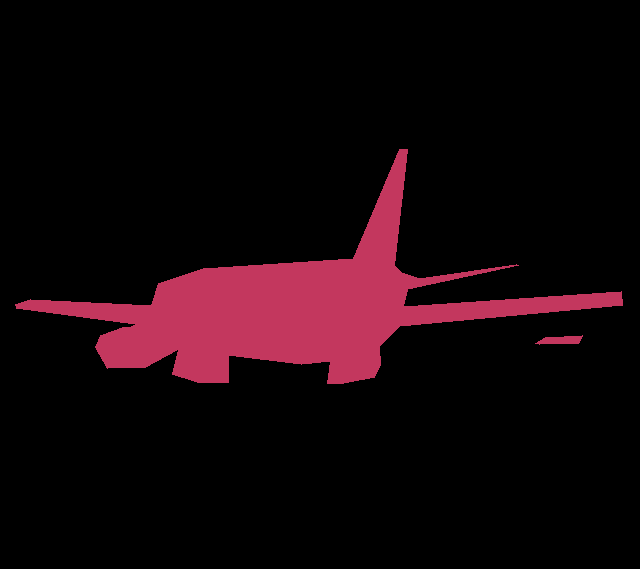Airplane: (15, 149, 623, 383), (535, 335, 582, 345)
